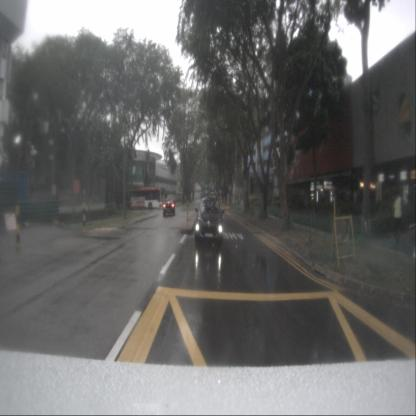human-pedestrian-adult: (393, 191, 403, 246)
vehicle-bus-rigid: (115, 187, 163, 210)
vehicle-car: (195, 197, 223, 243), (163, 198, 175, 216)
